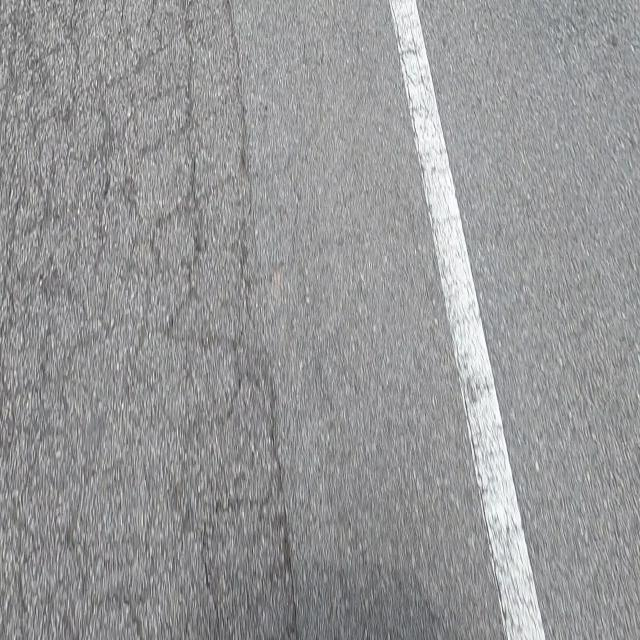Retak-Buaya: (0, 0, 300, 640)
